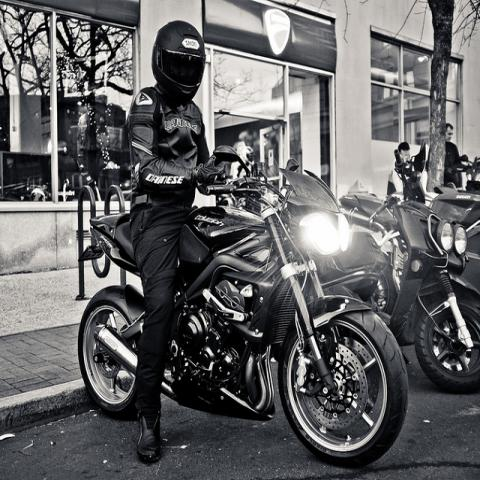motorcycle: (76, 147, 409, 469), (322, 197, 480, 392)
